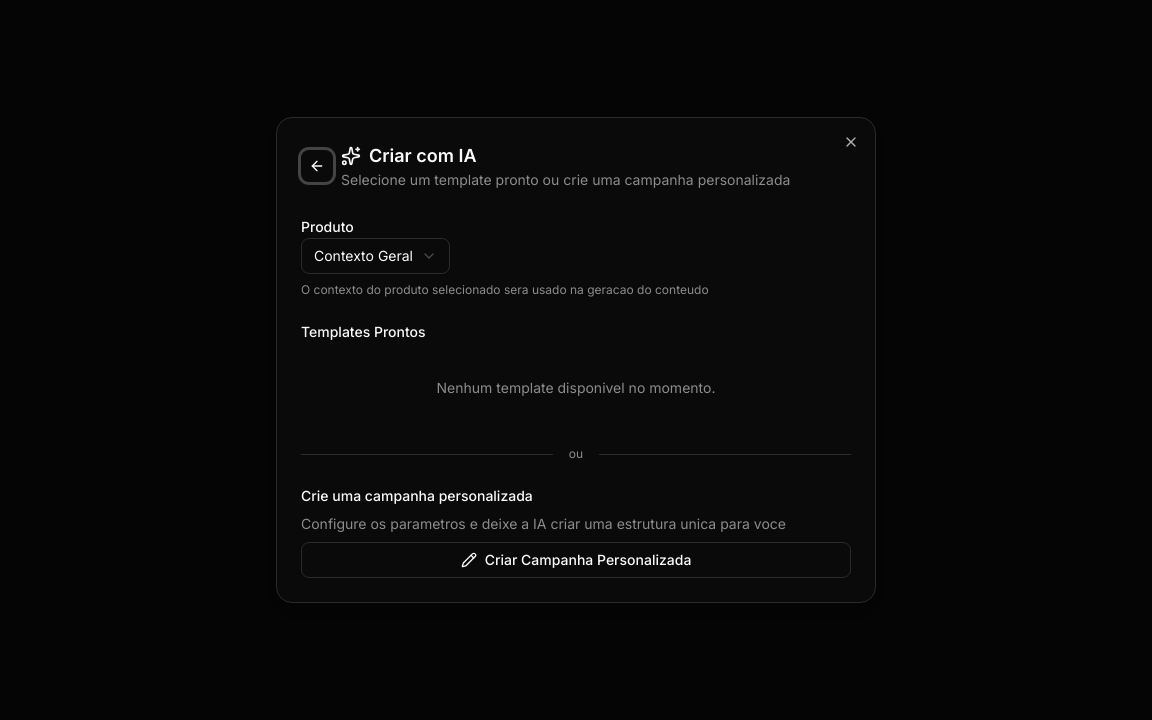
Test case: AICampaignWizard › Form Rendering (AC #2) › renders all form fields
Click the button with test id "template-custom-button" at (576, 560), box [301,542,851,578]
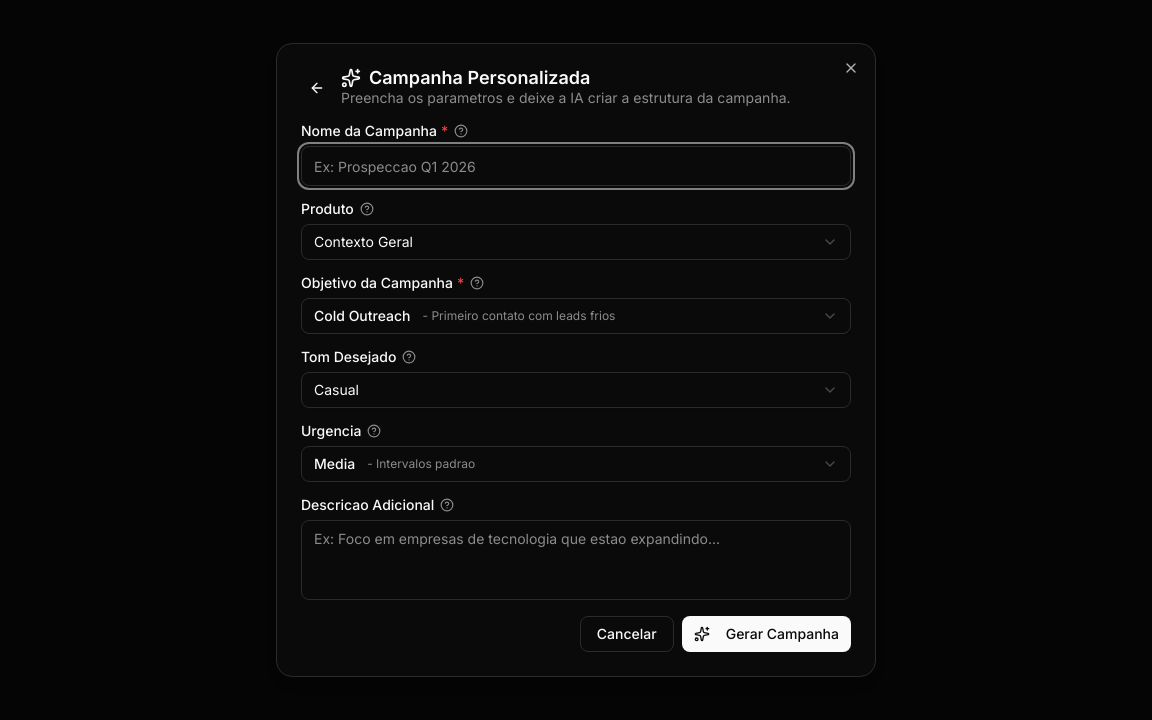
expect the field with test id "wizard-campaign-name" is shown: met, box [301,146,851,186]
expect the dropdown with test id "wizard-objective-select" is shown: met, box [301,298,851,334]
expect the dropdown with test id "wizard-tone-select" is shown: met, box [301,372,851,408]
